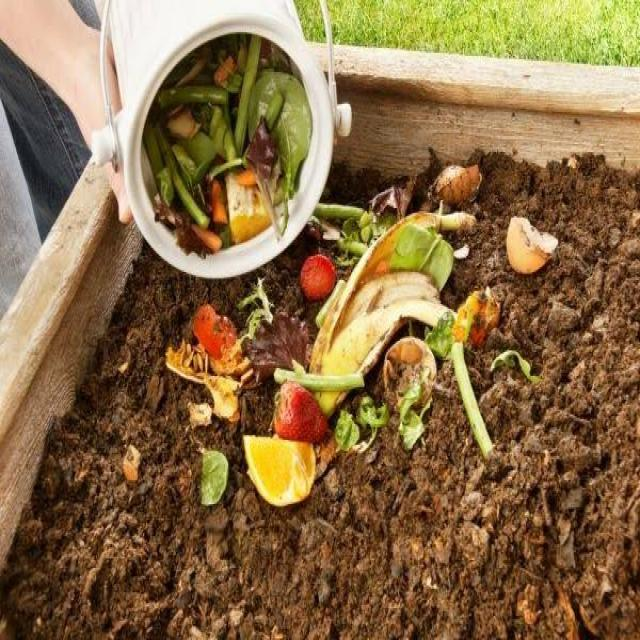materia_organica: (113, 119, 583, 582)
